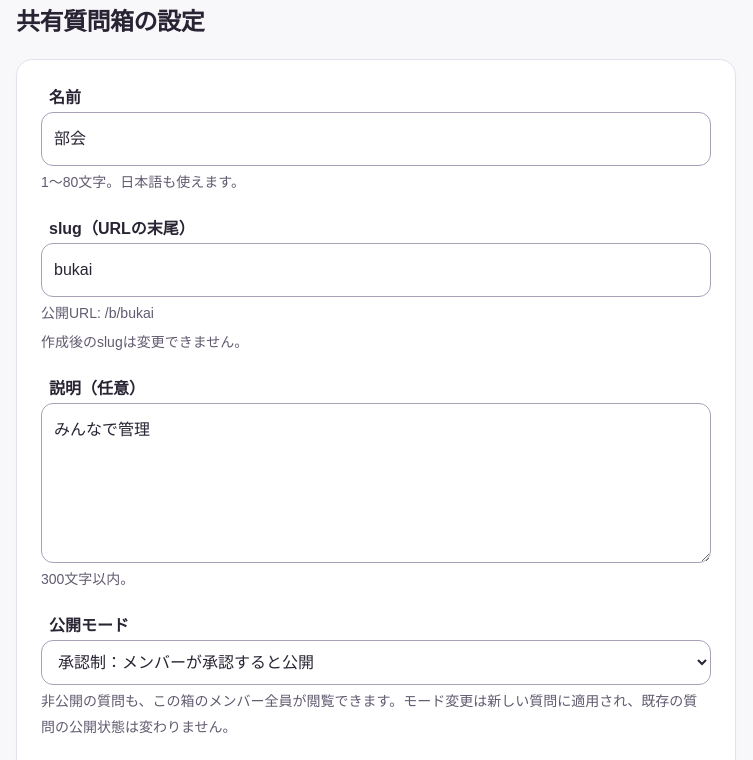
Scenario: Owner設定はslug読取専用で、更新にslugを送らない
Replace the text in the field labelled "名前" with "新しい箱名": {"x": 376, "y": 139} x1=41 y1=112 x2=711 y2=166
(page scrolled)
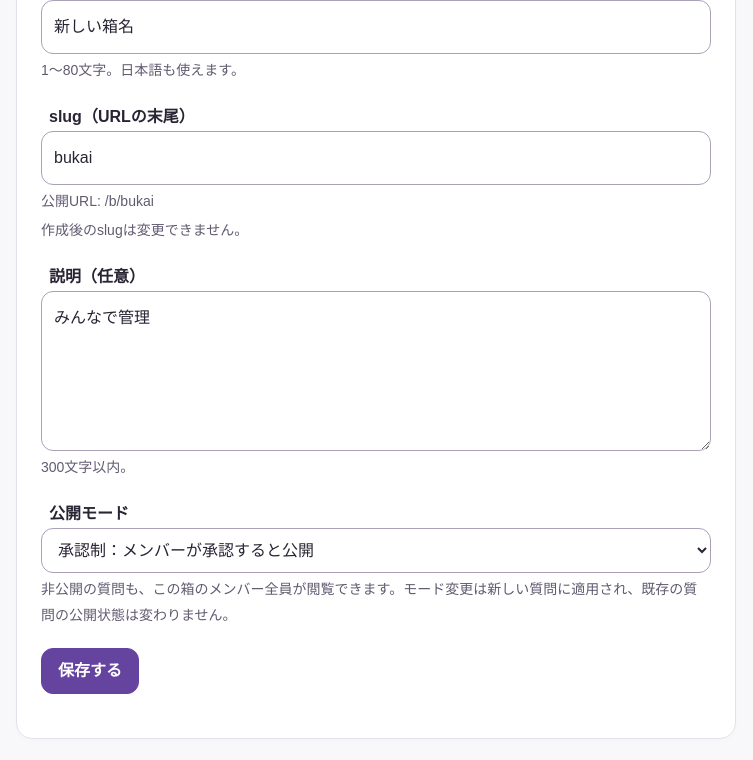
Click the button "保存する": {"x": 90, "y": 671} x1=41 y1=648 x2=139 y2=694
(page scrolled)
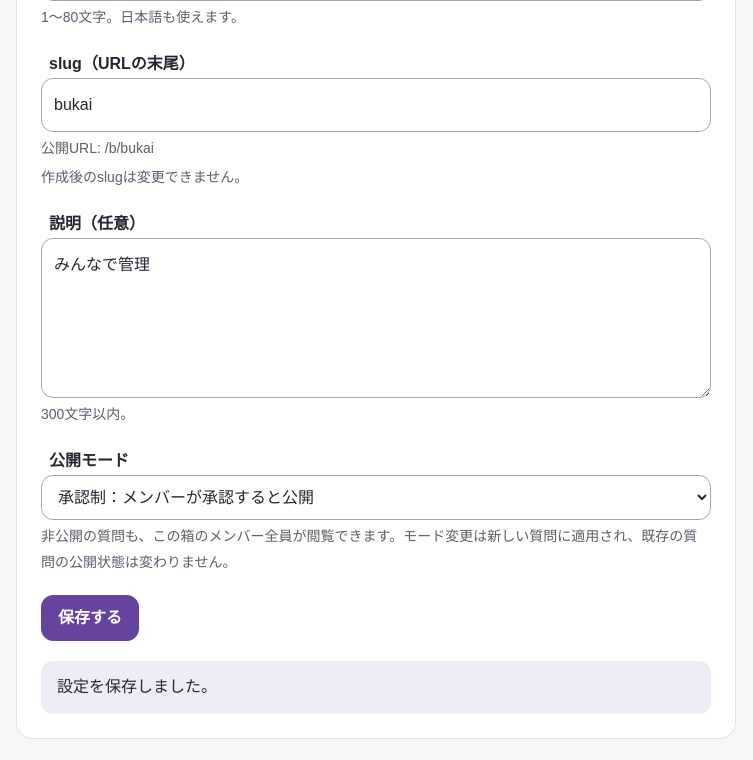
Expected: the message shows "設定を保存しました", x1=57 y1=678 x2=217 y2=695
